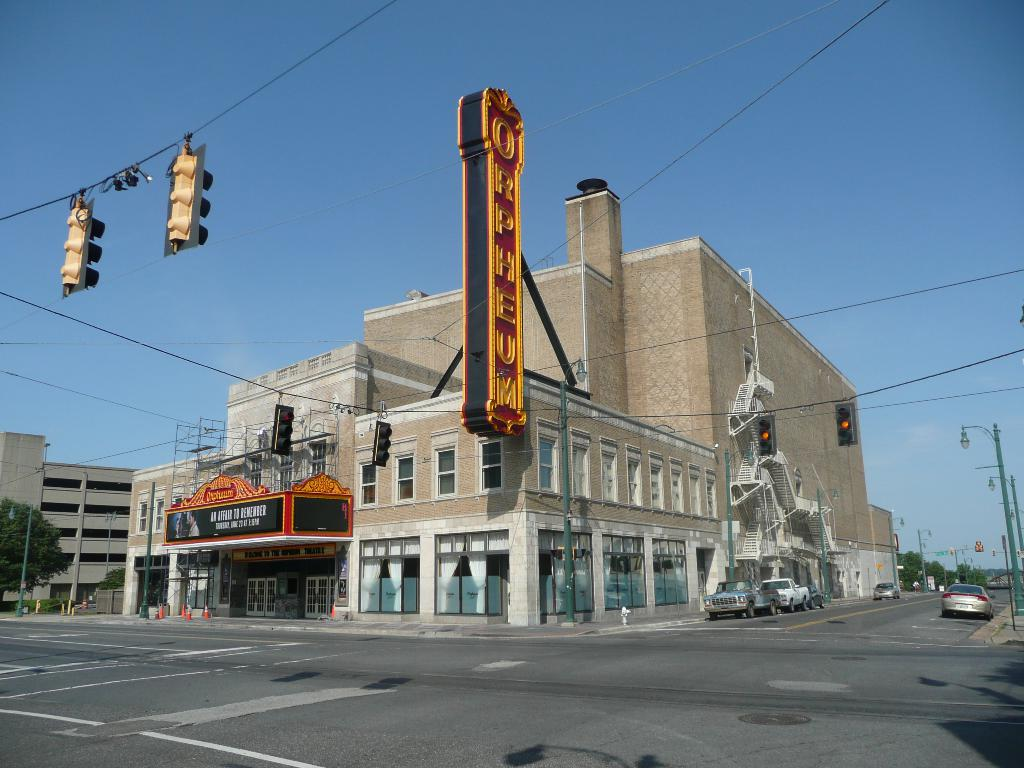red_light: (838, 417, 851, 430), (760, 430, 771, 439)
